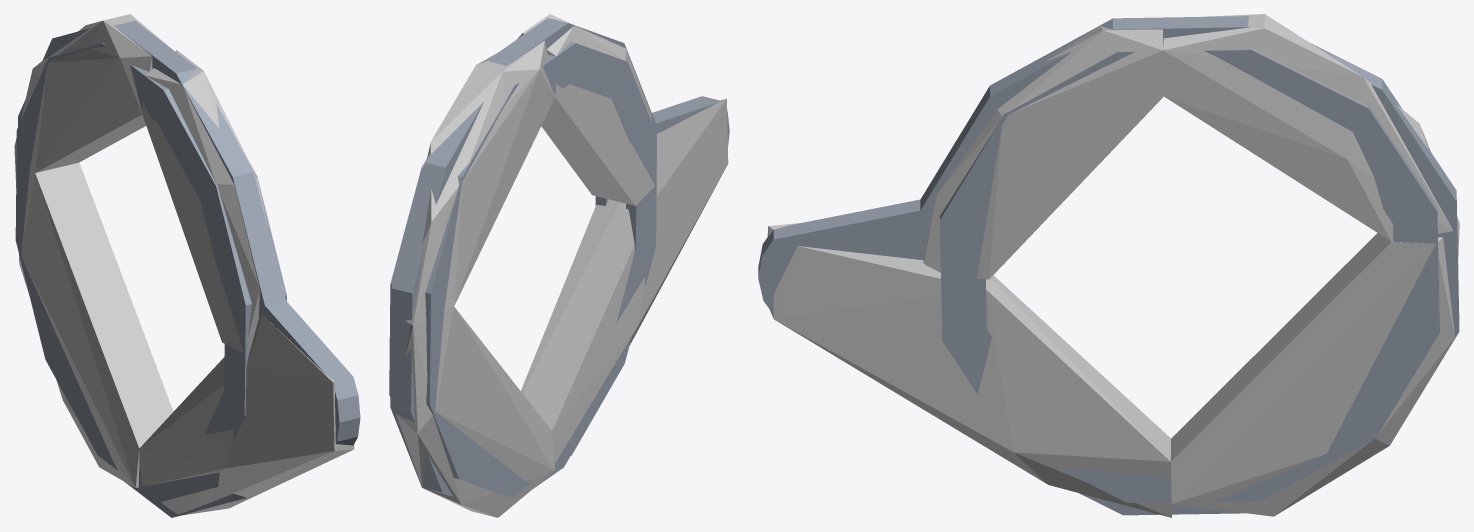
Rendered from SM_Prop_Telescope_01_Lens_02.fbx.
The picture shows the model from 3 angles, left to right: view 1: azimuth 30°, elevation 25°; view 2: azimuth 150°, elevation 25°; view 3: azimuth 270°, elevation 25°; orthographic projection. The views are drawn at different scales.
Parts seen in each view (by area): view 1: SM_Prop_Telescope_01_Lens_02_ConvexHulls, SM_Prop_Telescope_01_Lens_02; view 2: SM_Prop_Telescope_01_Lens_02_ConvexHulls, SM_Prop_Telescope_01_Lens_02; view 3: SM_Prop_Telescope_01_Lens_02_ConvexHulls, SM_Prop_Telescope_01_Lens_02.
Boxes of the visible parts, x1,y1,x2,y2 form: SM_Prop_Telescope_01_Lens_02_ConvexHulls: (14,14,354,515); SM_Prop_Telescope_01_Lens_02: (15,20,360,517); SM_Prop_Telescope_01_Lens_02_ConvexHulls: (396,14,728,517); SM_Prop_Telescope_01_Lens_02: (389,18,729,497); SM_Prop_Telescope_01_Lens_02_ConvexHulls: (767,14,1459,517); SM_Prop_Telescope_01_Lens_02: (758,16,1459,515).
Size of the model in its own units: 15.04 by 175 by 135.
2 materials, 1 textured.
